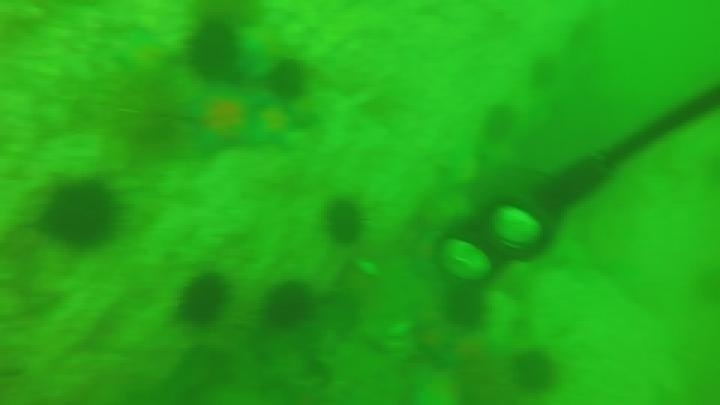echinus: (107, 73, 191, 154), (39, 177, 123, 251), (184, 19, 243, 82), (175, 271, 231, 328), (260, 279, 315, 330), (509, 348, 560, 395), (321, 197, 368, 248), (441, 285, 489, 331), (266, 57, 310, 103), (480, 103, 519, 144), (527, 54, 561, 90)
starfish: (178, 87, 271, 158), (110, 28, 176, 86), (243, 102, 307, 151)
